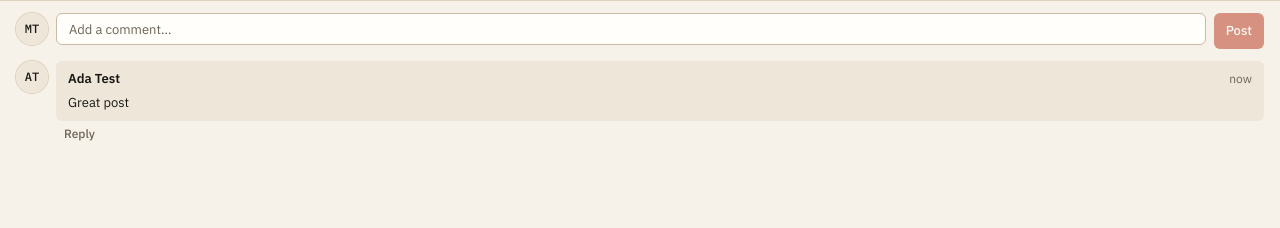
Test case: Comments replies › posts a reply with the parent comment id
Click the button with aria-label "Reply to Ada Test". click: (79, 134)
box: 64,125 -> 95,143
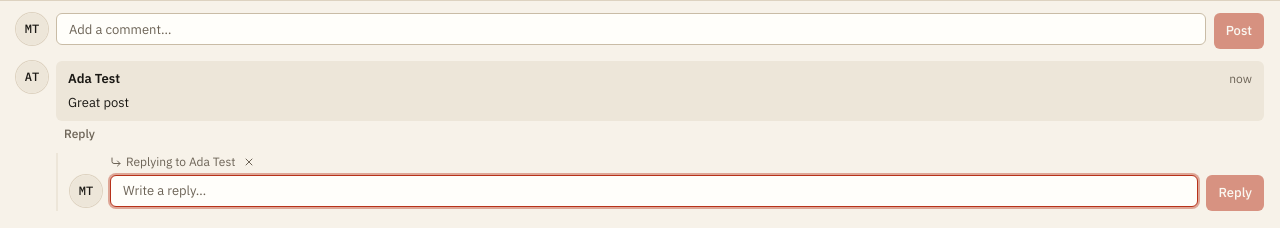
Expected: the text "Replying to Ada Test" is shown, 110,154 -> 255,169
Type "Thanks!" into the field named "Reply to Ada Test". click: (654, 191)
box: 110,175 -> 1198,207
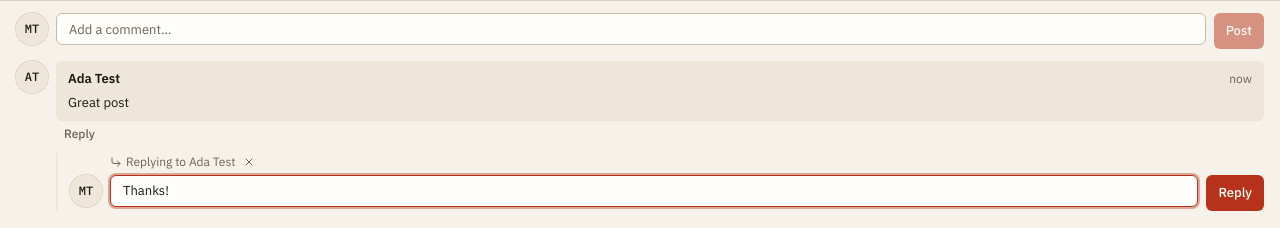
Click the 2nd button "Reply". click: (1235, 193)
box: 1206,175 -> 1264,211
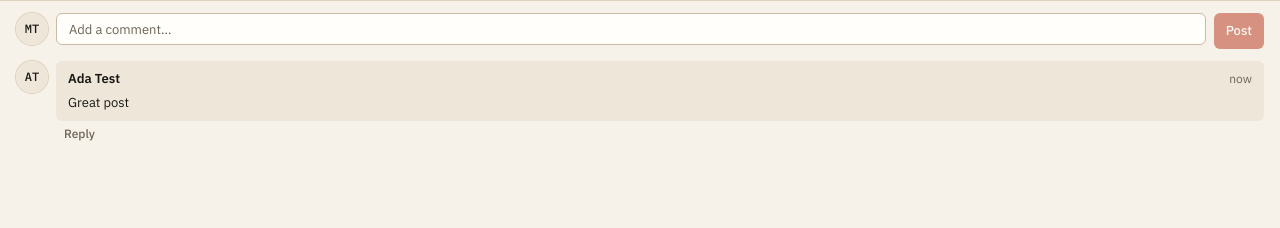
Expected: the text "Replying to Ada Test" is gone
